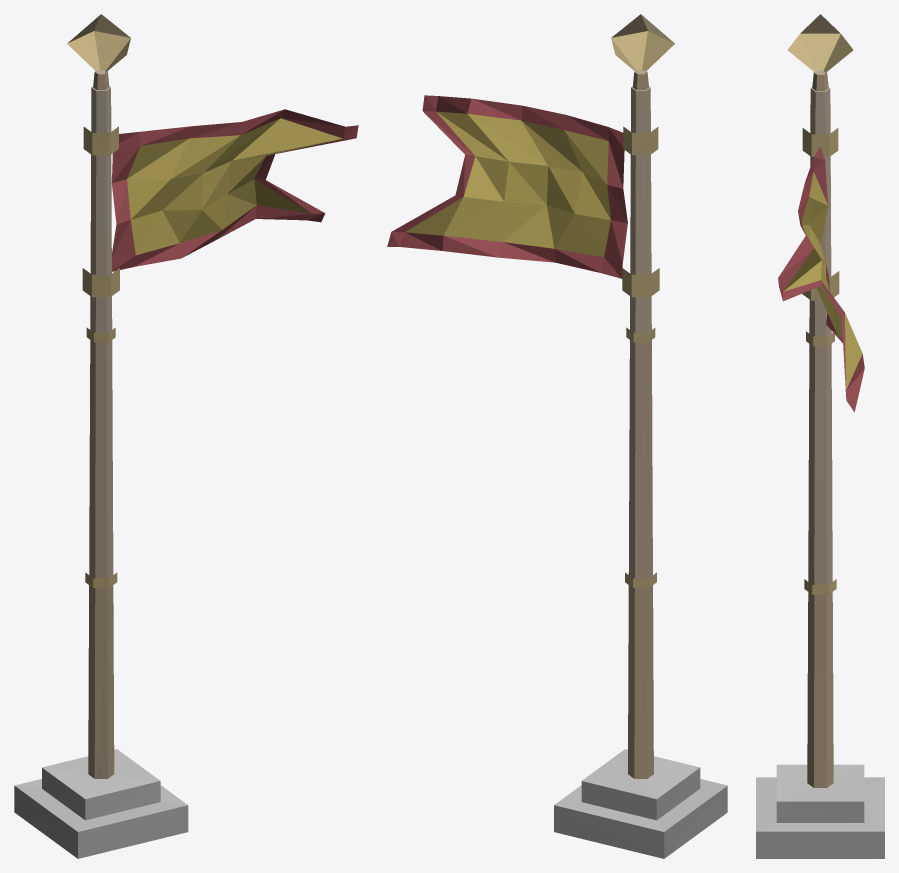
Rendered from flag.swallowtail.jinyan__pole.ground.gaogan__masthead.glb.
3 views of the same model, side by side, from view 1: azimuth 30°, elevation 25°; view 2: azimuth 150°, elevation 25°; view 3: azimuth 270°, elevation 25° (orthographic).
Parts seen in each view (by area): view 1: flag.swallowtail.jinyan; view 2: flag.swallowtail.jinyan; view 3: flag.swallowtail.jinyan.
Part boxes in pixels (box(x1,y1,x2,y2)): flag.swallowtail.jinyan: box(14, 14, 358, 858); flag.swallowtail.jinyan: box(387, 14, 727, 858); flag.swallowtail.jinyan: box(756, 14, 884, 858).
Bounding box in the file's own units: 2.16 × 5.72 × 0.816.
